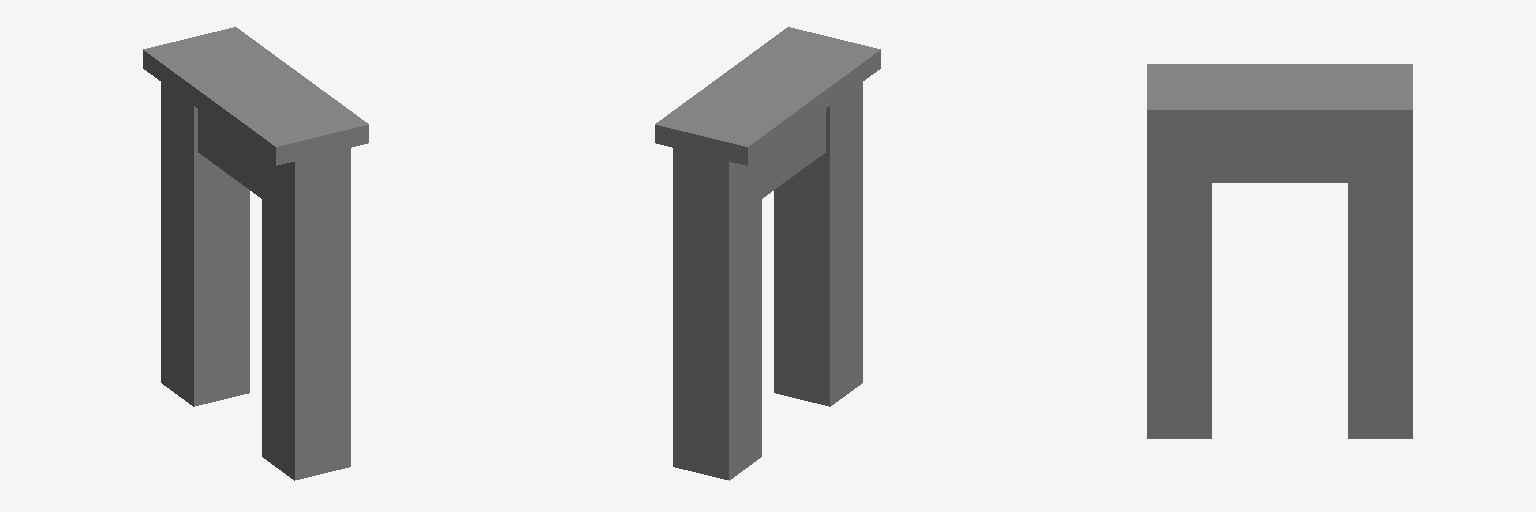
File: English_room_back_doorframe.obj
3 renders of one model, left to right at view 1: azimuth 30°, elevation 25°; view 2: azimuth 150°, elevation 25°; view 3: azimuth 270°, elevation 25°, orthographic.
Visible parts, largest first — view 1: ?????????; view 2: ?????????; view 3: ?????????.
Boxes of the visible parts, box(x1,y1,x2,y2) form: ?????????: box(143, 27, 368, 480); ?????????: box(655, 27, 880, 480); ?????????: box(1147, 64, 1412, 438).
Bounding box in the file's own units: 0.997 × 3.46 × 2.48.